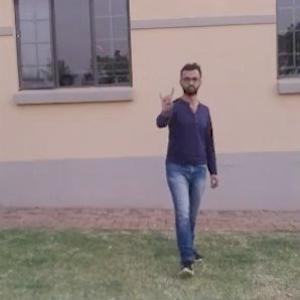takeoff-hand: (154, 82, 178, 116)
